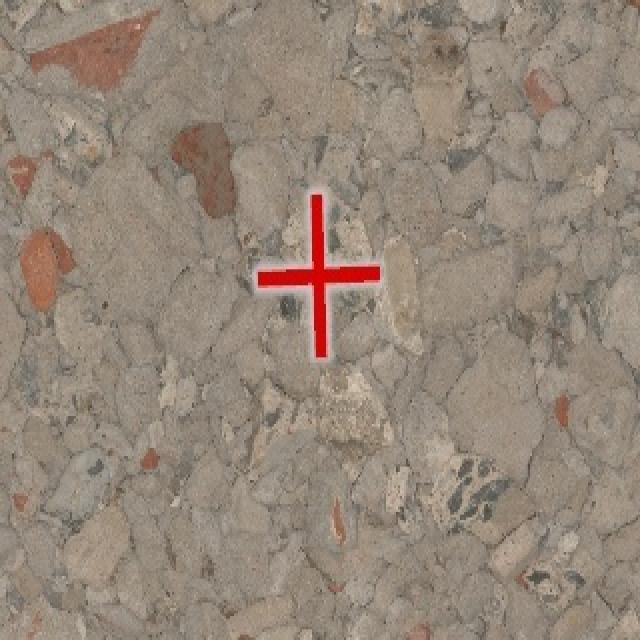x_marker: (255, 191, 379, 356)
